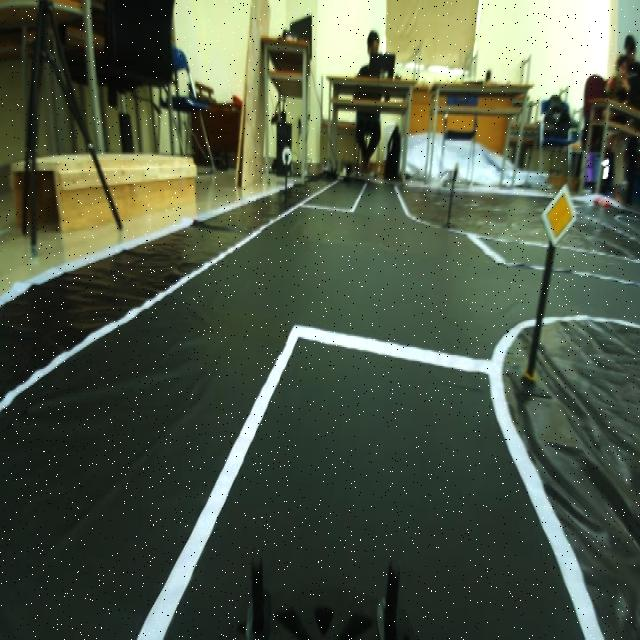priority: (540, 181, 582, 253)
